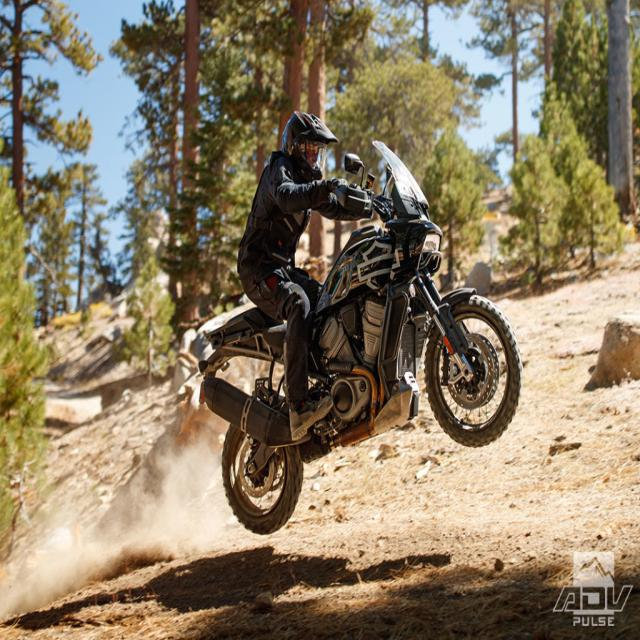motorcycle: (199, 112, 521, 534)
